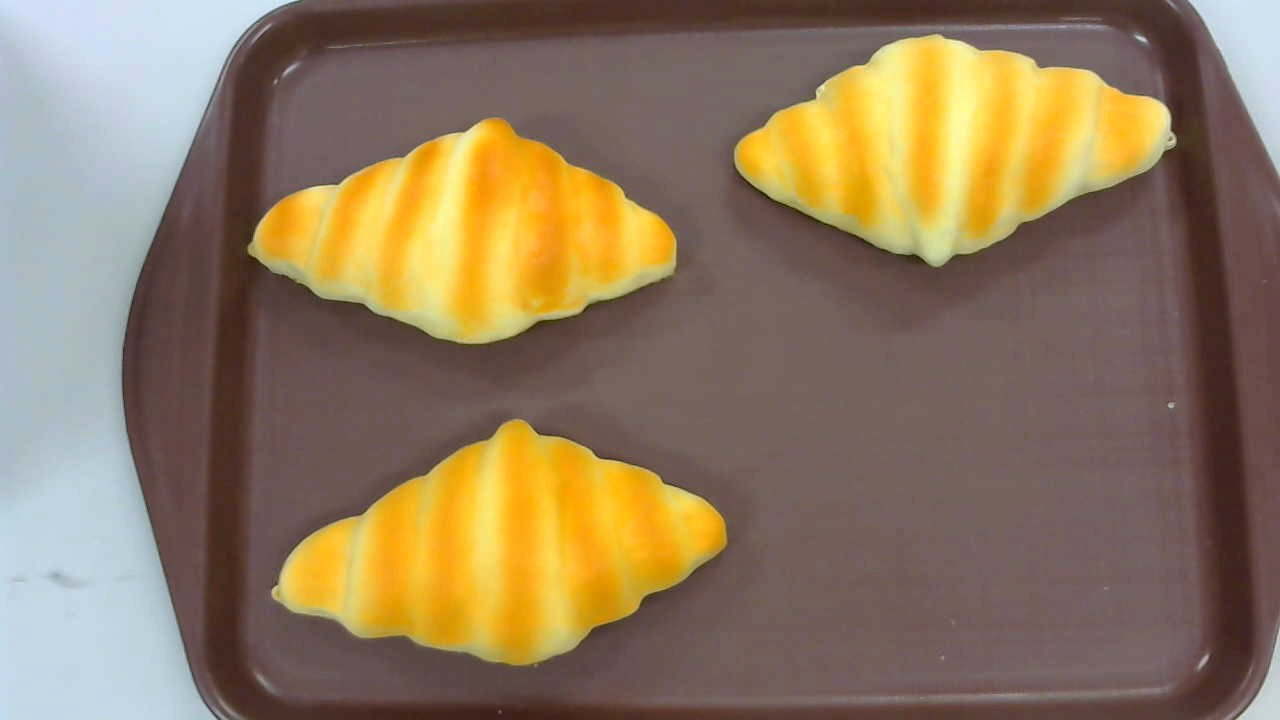croissant: (271, 418, 730, 665), (733, 32, 1178, 269), (247, 116, 676, 345)
